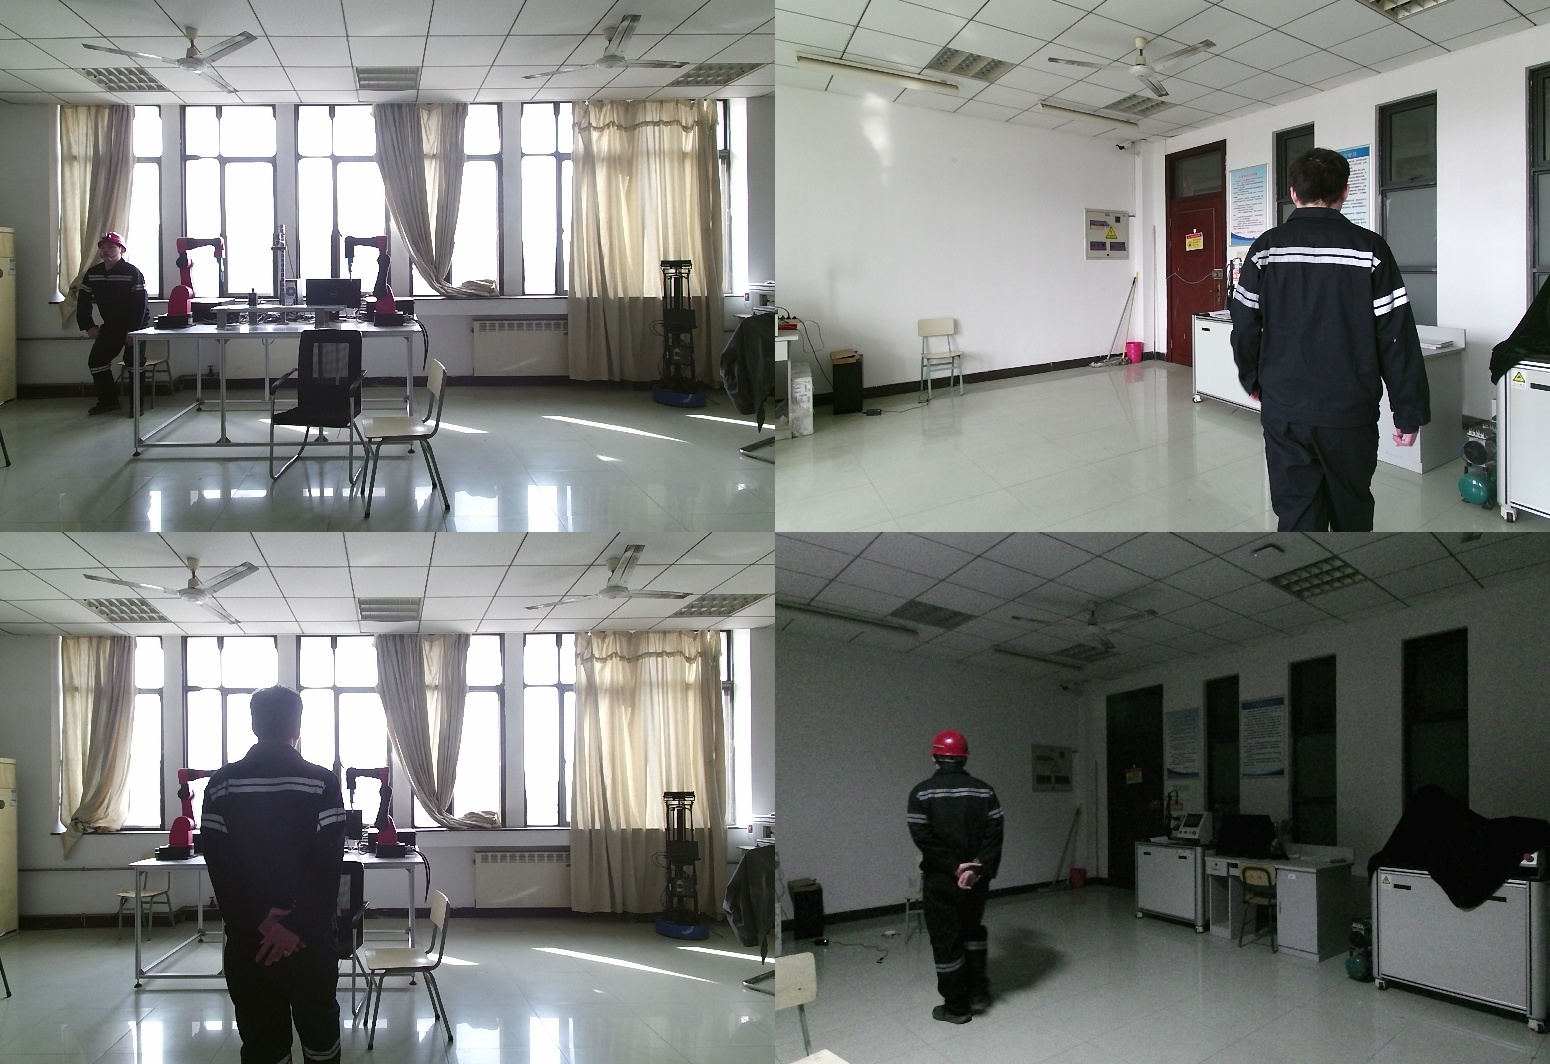person: (1235, 148, 1449, 532), (201, 686, 362, 1064), (905, 733, 1025, 1022), (70, 229, 149, 417)
